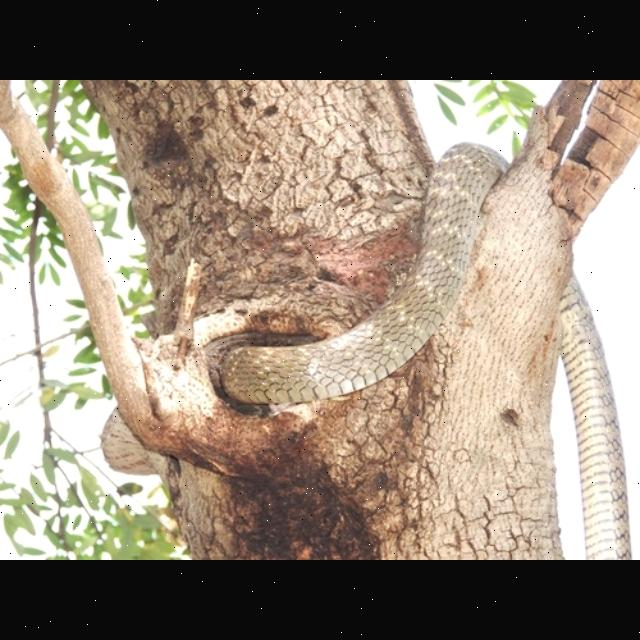snake: (212, 102, 634, 560)
